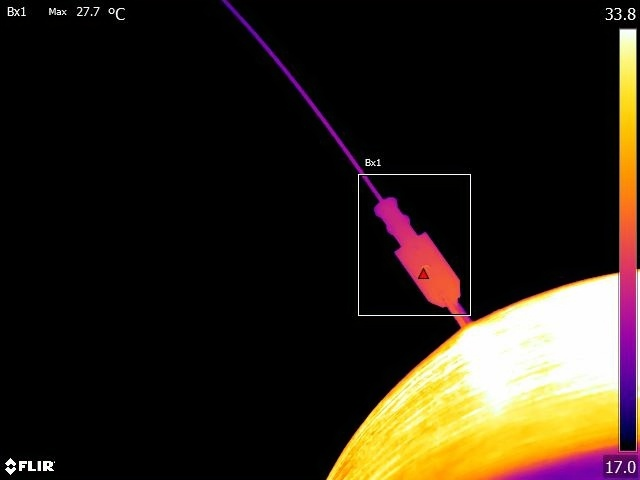clamp: (364, 182, 467, 308)
